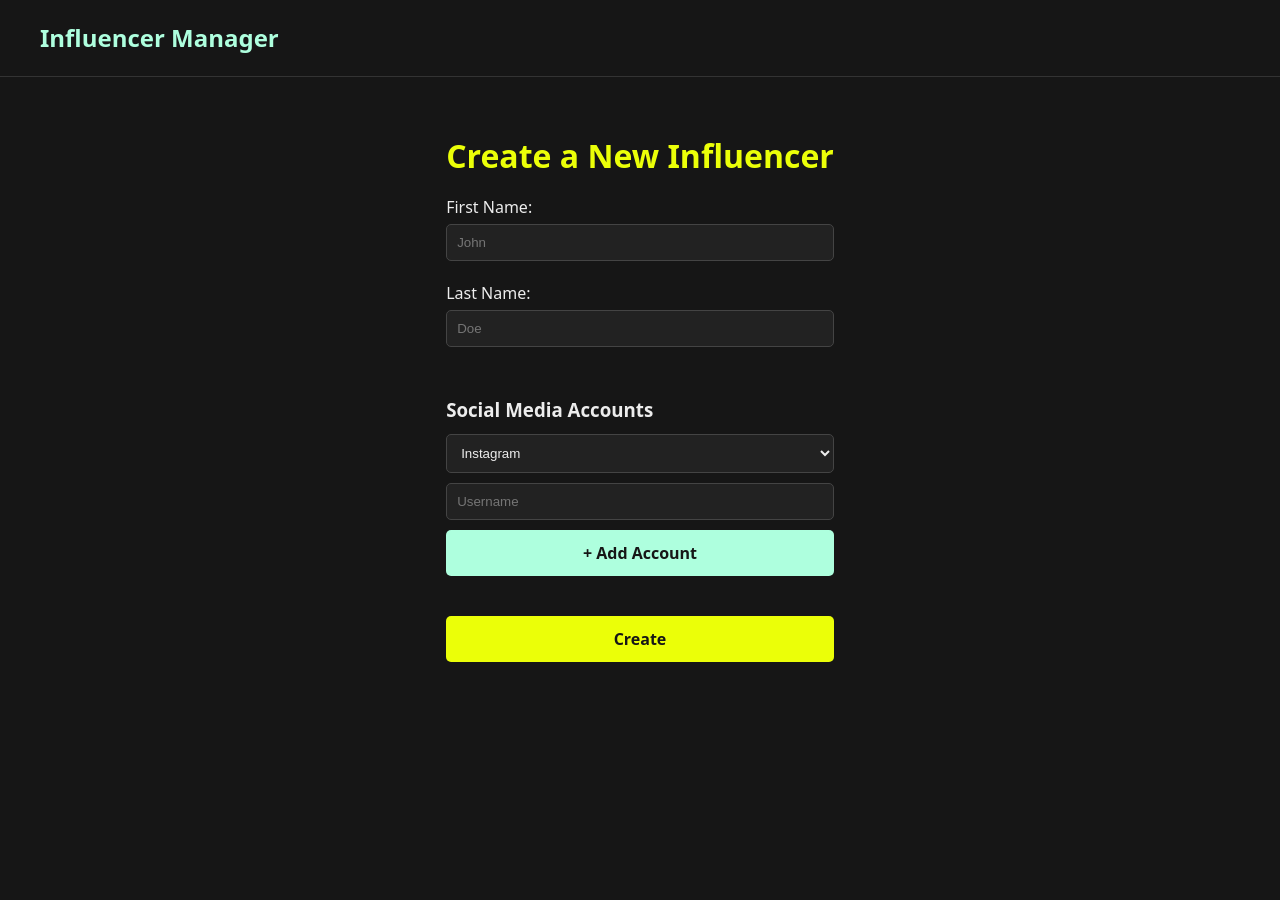
Scenario: CreateInfluencerPage (Create mode) › renders the form and allows adding/removing account fields
This screenshot has width=1280, height=900.
Expected: the field with placeholder "Username" is shown, left=446, top=483, right=834, bottom=520
Click the button "+ Add Account" at (640, 553), box left=446, top=530, right=834, bottom=576
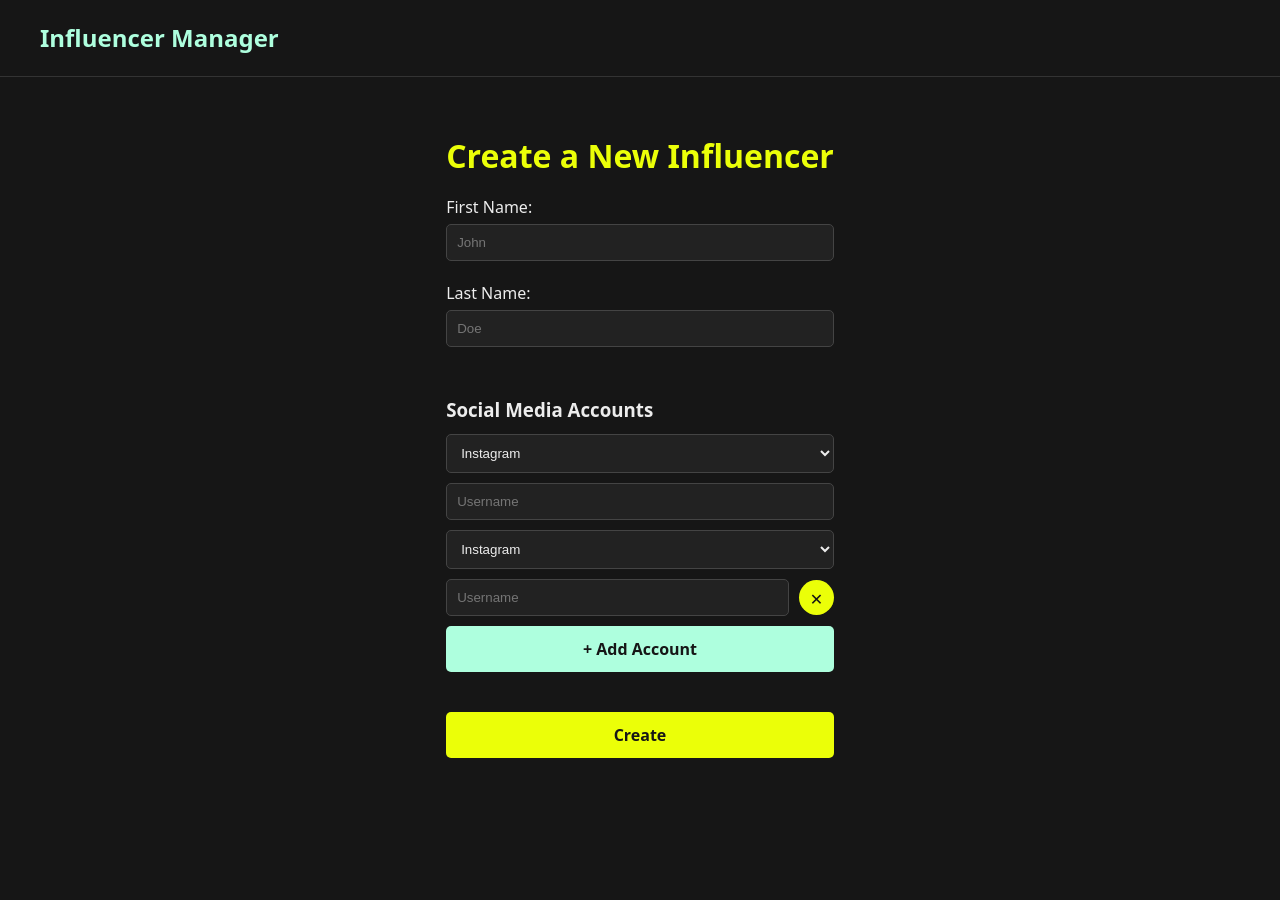
Expected: the number of fields with placeholder "Username" is 2, left=446, top=483, right=834, bottom=520; left=446, top=579, right=789, bottom=616
Click the button named "Remove account" at (816, 597), box left=799, top=580, right=834, bottom=615
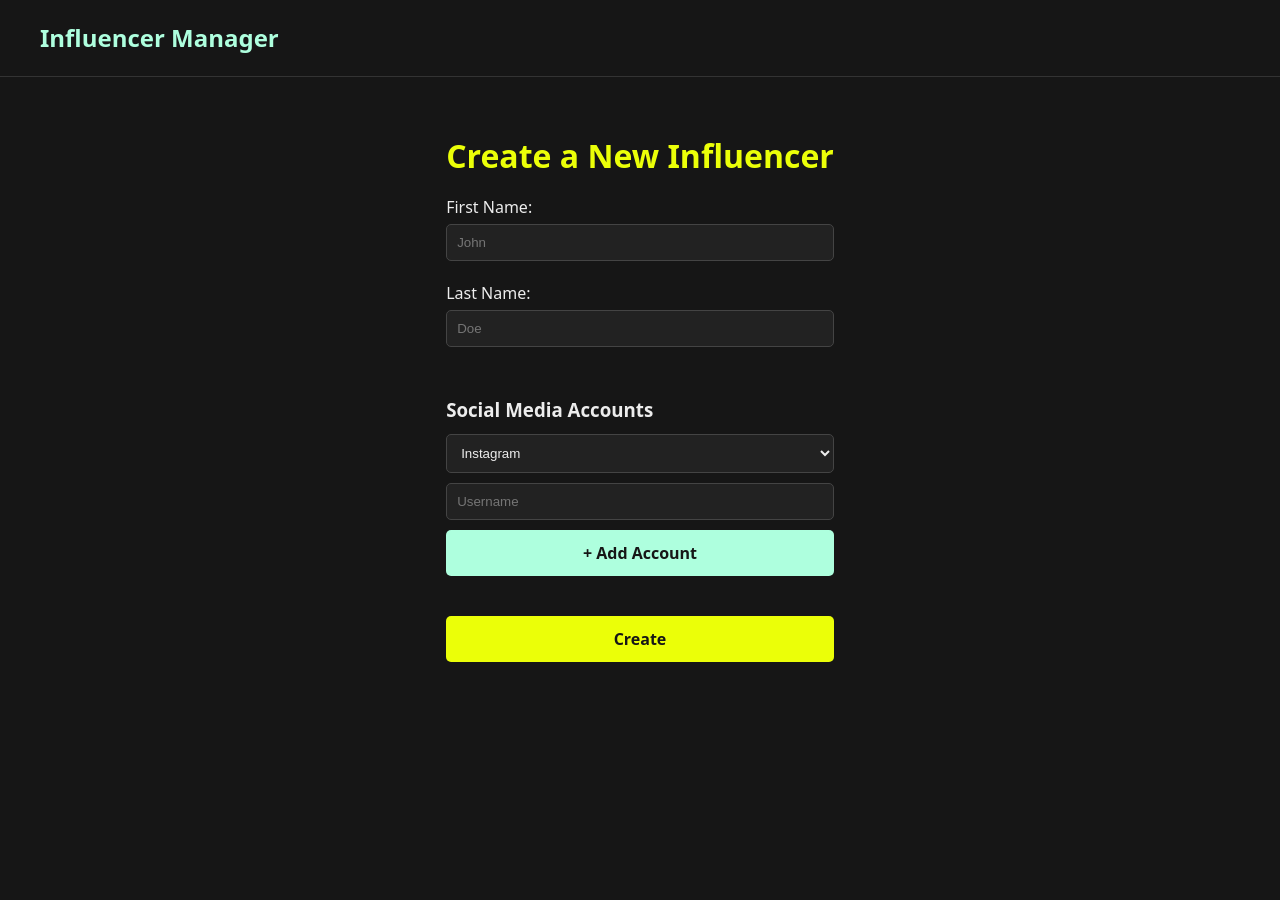
Expected: the number of fields with placeholder "Username" is 1, left=446, top=483, right=834, bottom=520
